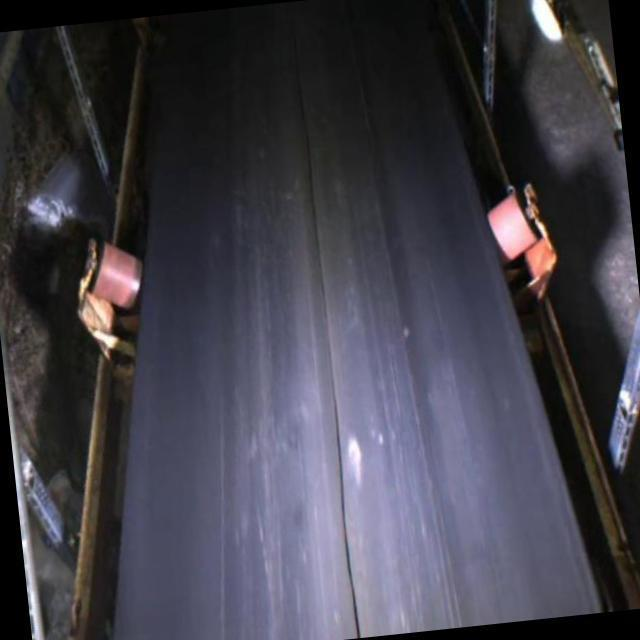Tear: (286, 65, 369, 640)
